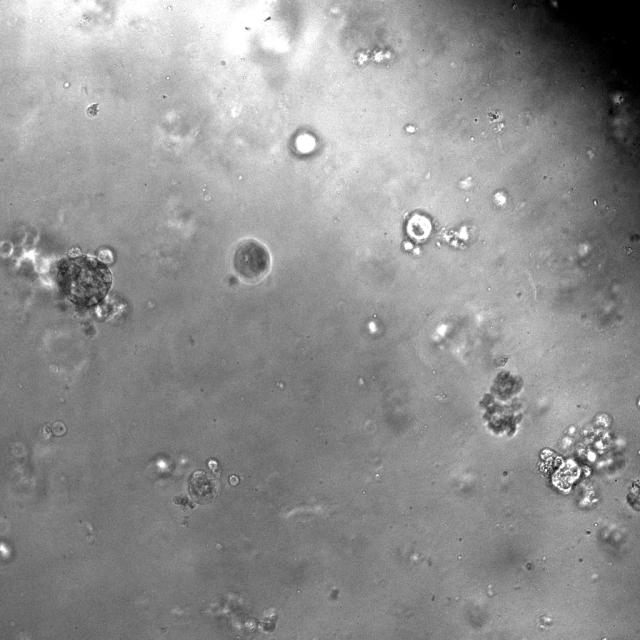organoid: (536, 411, 625, 506), (56, 254, 111, 307), (479, 369, 523, 435), (174, 469, 220, 512), (232, 239, 271, 284), (402, 209, 432, 256), (354, 47, 393, 66), (626, 478, 639, 512)
